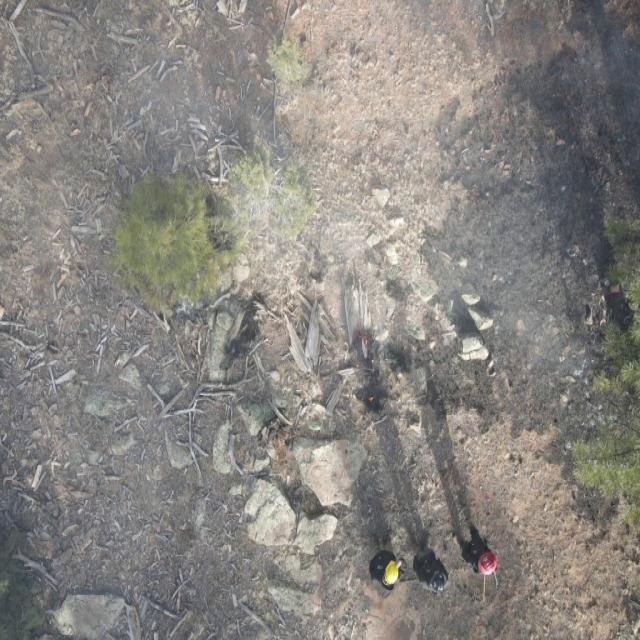fire: (357, 327, 372, 349), (354, 358, 377, 370), (366, 392, 376, 406)
smoke: (0, 1, 640, 410), (0, 410, 378, 640)
